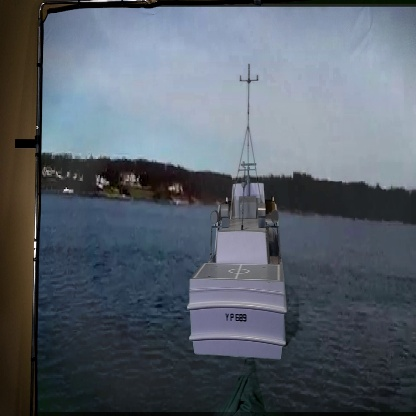YP689: (185, 68, 292, 362)
